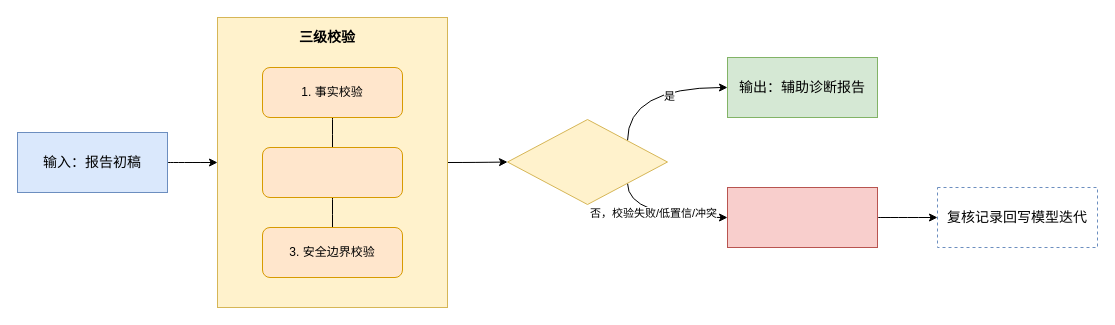
Image size: 1115x325. Some labels were removed from this diagram. The centre of each missing label's shape, as x and y in pixels:
2. 一致性校验: pixel 332 172
转医生复核: pixel 802 217
通过且高置信: pixel 587 161
